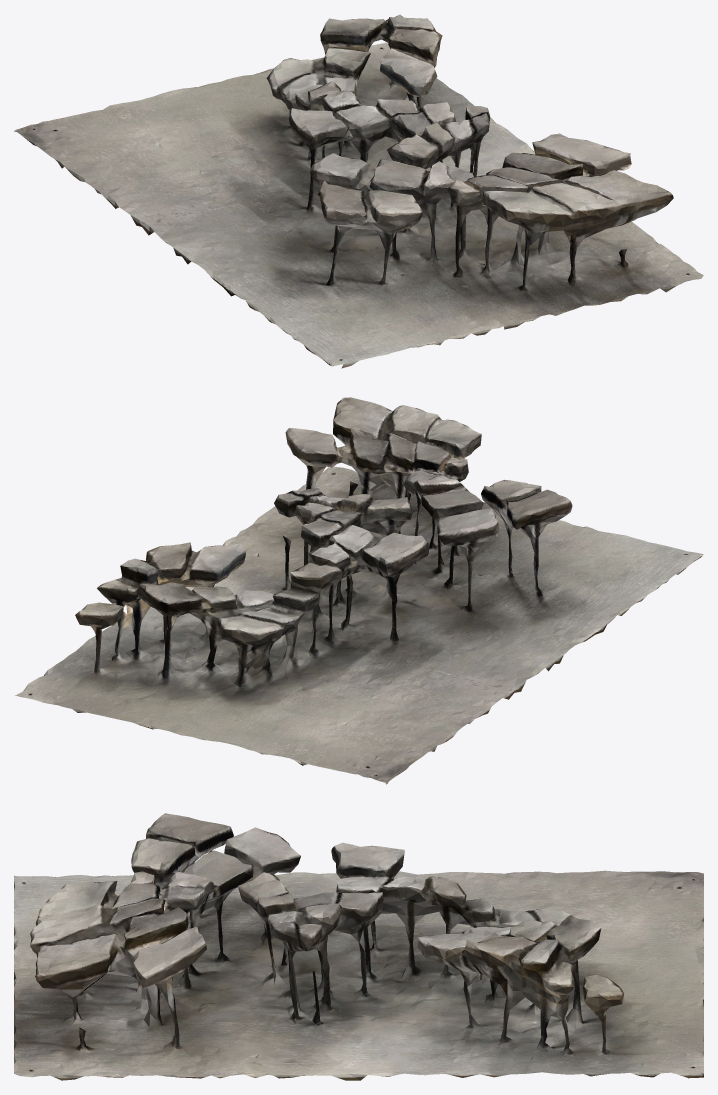
Rendered from eva.glb.
The picture shows the model from 3 angles, top to bottom: view 1: azimuth 30°, elevation 25°; view 2: azimuth 150°, elevation 25°; view 3: azimuth 270°, elevation 25°; orthographic projection. The views are drawn at different scales.
Size of the model in its own units: 0.4687 by 0.1213 by 0.6905.
Materials: 1 (1 with a texture image).
